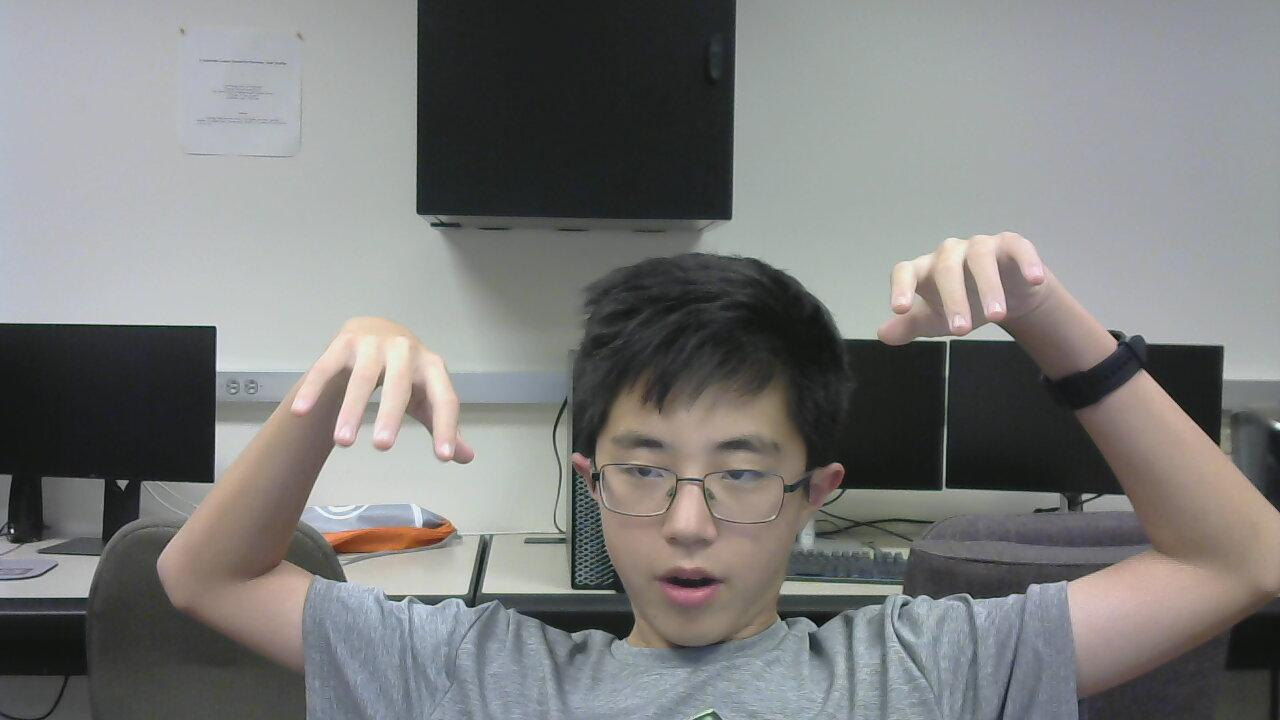hands: (291, 313, 490, 476), (862, 225, 1055, 353)
